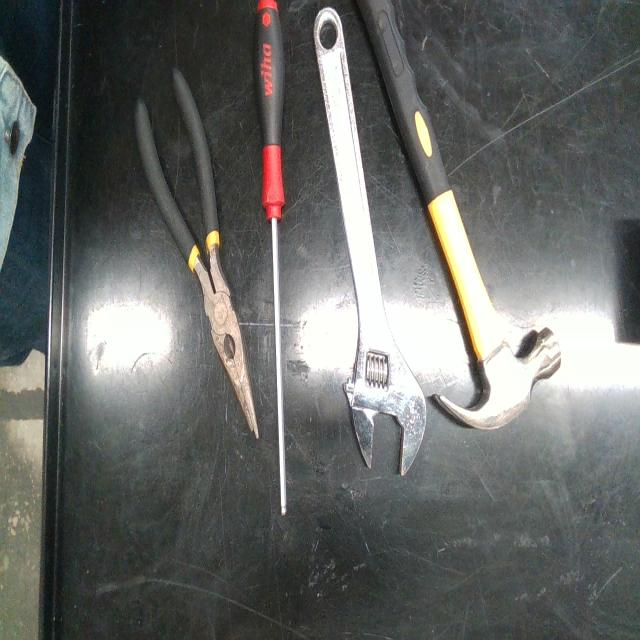Screwdriver: (254, 0, 286, 514)
